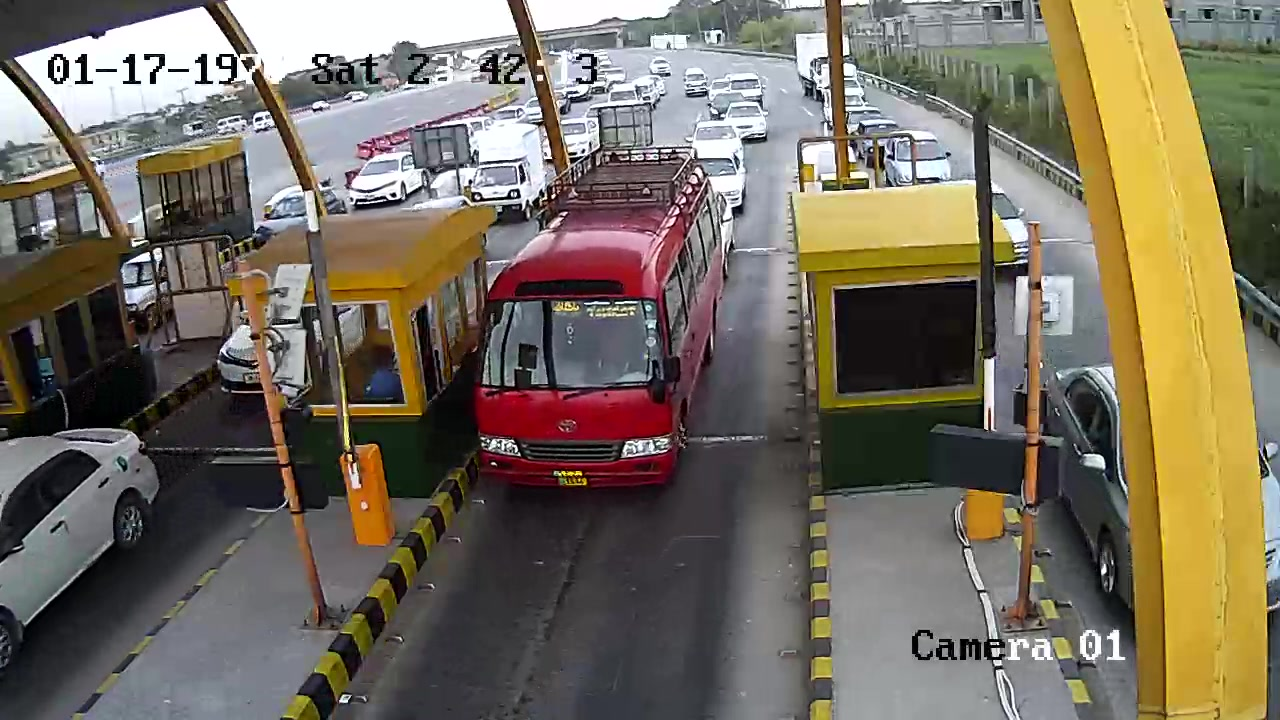F3: (470, 135, 728, 512)
